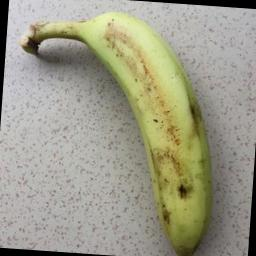Banana Ripe: (37, 0, 256, 256)
